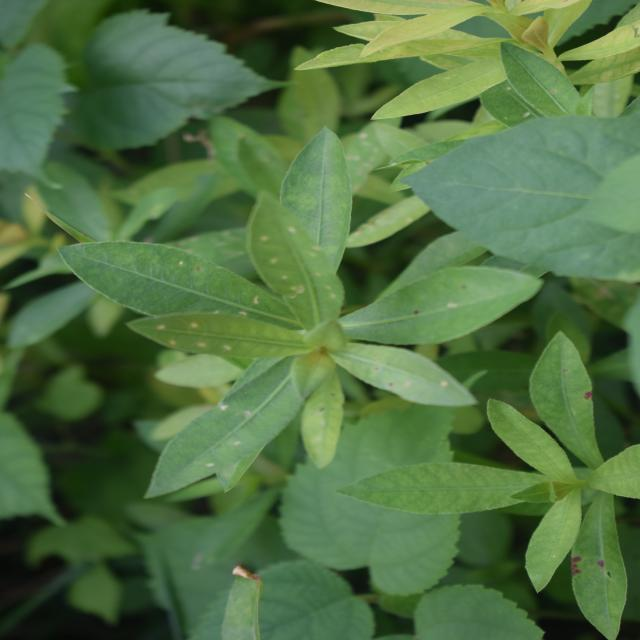Alligatorweed: (174, 69, 456, 493), (48, 362, 310, 632)
